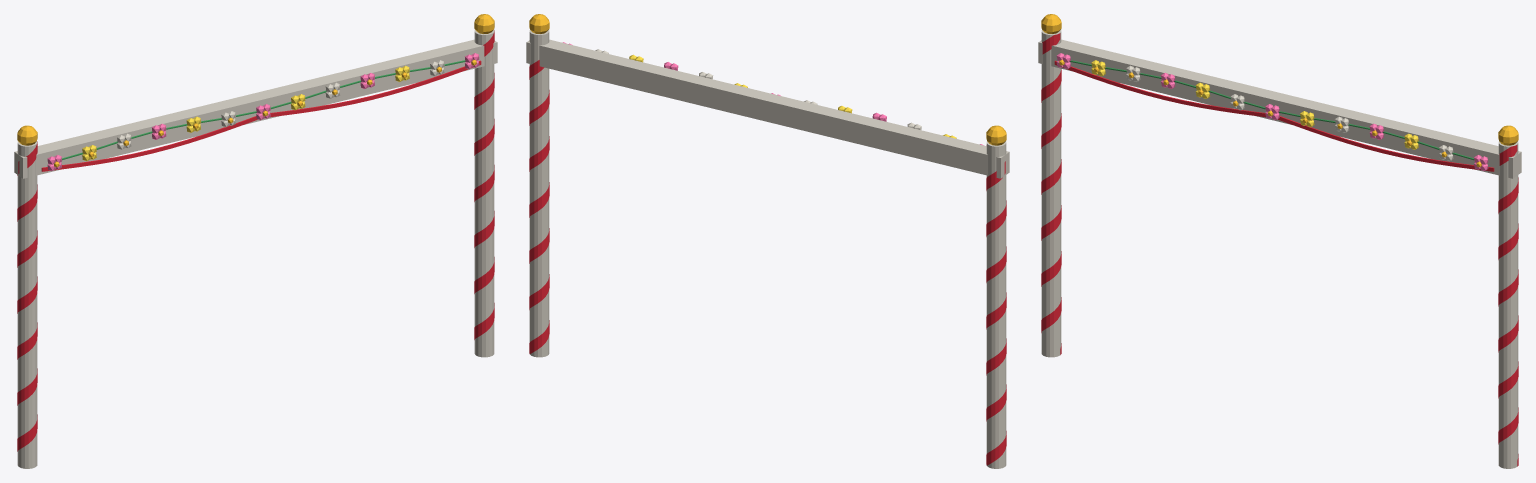
Rendered from startgate.glb.
The picture shows the model from 3 angles, left to right: view 1: azimuth 30°, elevation 25°; view 2: azimuth 150°, elevation 25°; view 3: azimuth 330°, elevation 25°; orthographic projection.
Visible parts, largest first — view 1: body; view 2: body; view 3: body.
Part boxes in pixels (box(x1,y1,x2,y2)): body: box(14, 14, 497, 468); body: box(526, 14, 1009, 468); body: box(1038, 14, 1521, 468).
Size of the model in its own units: 9.56 by 6.51 by 0.555.
